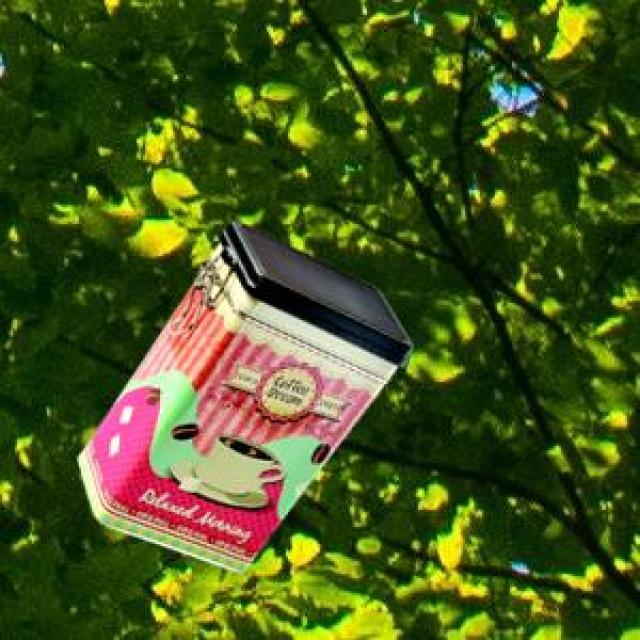Can: (76, 219, 411, 569)
